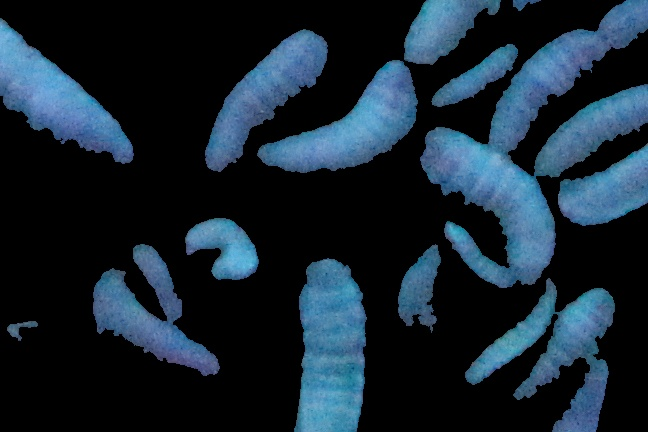larvae: (421, 126, 555, 286), (1, 16, 133, 165), (258, 61, 416, 172), (205, 29, 329, 170), (90, 266, 223, 379), (505, 280, 621, 406), (490, 29, 609, 150), (292, 255, 366, 432), (535, 85, 648, 177), (466, 277, 559, 383), (558, 144, 648, 226), (402, 1, 501, 66), (396, 241, 446, 356), (430, 44, 519, 107), (132, 242, 187, 326), (184, 218, 259, 278), (444, 222, 513, 286)
